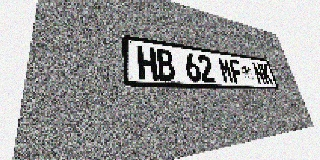2: (197, 54, 215, 82)
6: (183, 52, 202, 82)
B: (155, 48, 176, 81)
F: (228, 59, 244, 83)
H: (136, 46, 158, 80)
K: (259, 63, 274, 85)
M: (217, 57, 234, 83)
N: (251, 62, 266, 84)
